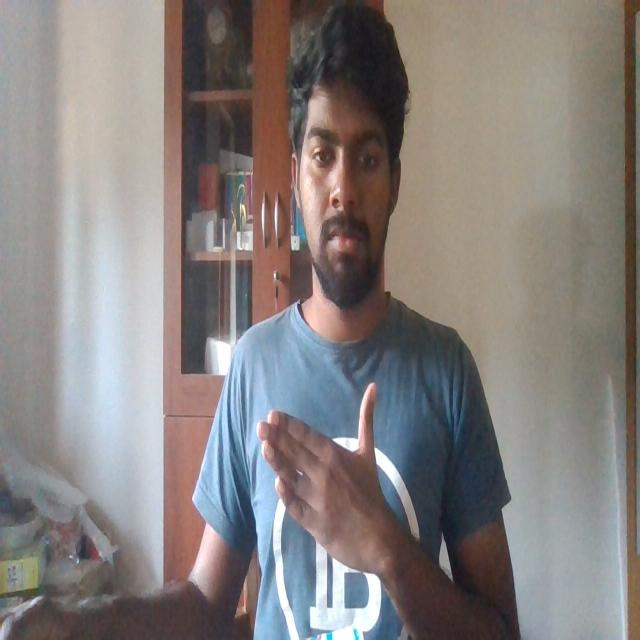Please: (256, 372, 401, 581)
